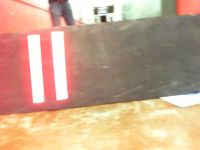switch: (26, 34, 45, 103), (50, 31, 68, 100)
